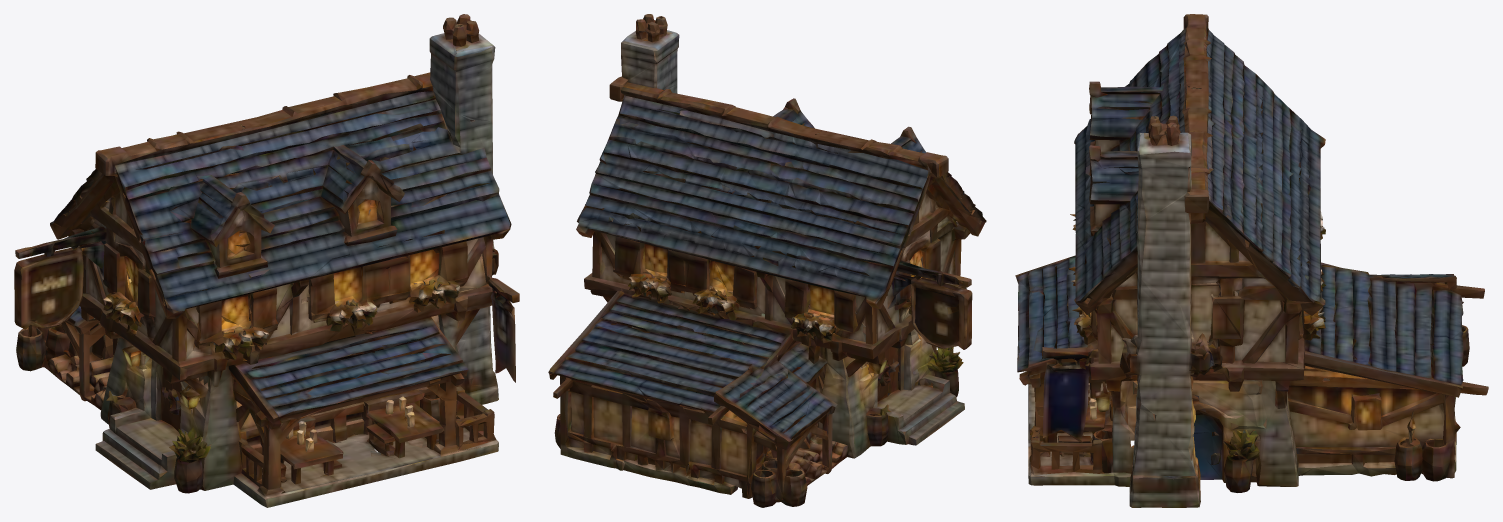
File: tavernBuilding_2.glb
3 views of the same model, side by side, from view 1: azimuth 30°, elevation 25°; view 2: azimuth 150°, elevation 25°; view 3: azimuth 270°, elevation 25° (orthographic). The views are drawn at different scales.
Parts seen in each view (by area): view 1: geometry_0; view 2: geometry_0; view 3: geometry_0.
Part boxes in pixels (<box>): geometry_0: <box>14,14,519,507</box>; geometry_0: <box>548,14,986,507</box>; geometry_0: <box>1015,14,1488,507</box>.
Bounding box in the file's own units: 0.9981 × 0.8409 × 0.9499.
Materials: 1 (1 with a texture image).
